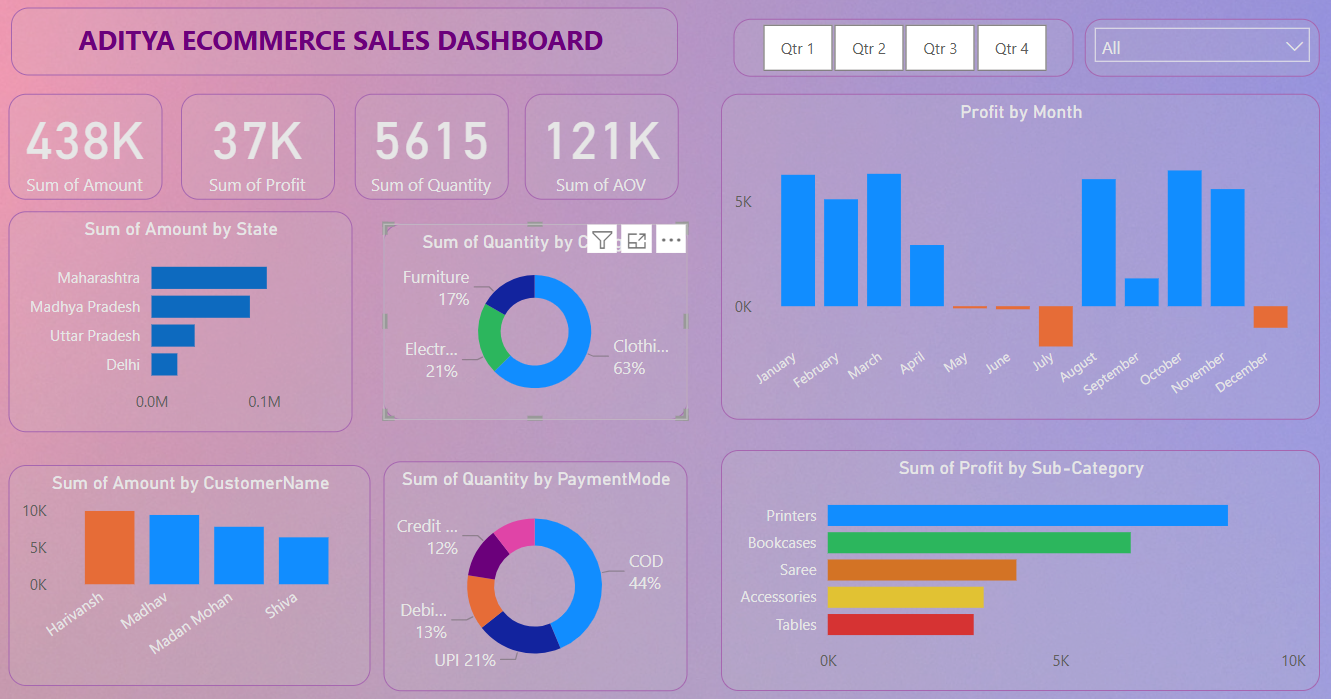

The page's visual inventory and layout, read from the dashboard file:
{"tool":"powerbi","page":{"name":"Page 1","canvas":[1280,720],"ordinal":0},"visuals":[{"type":"textbox","box":[12,6,534,55],"z":0},{"type":"columnChart","title":"Profit by Month","fields":{"Category":["Orders.Order Date.Variation.Date Hierarchy.Month"],"Y":["Details.Profit"]},"box":[580,75,479,261],"z":1000},{"type":"clusteredBarChart","fields":{"Y":["Details.Profit"],"Category":["Details.Sub-Category"]},"box":[580,360,479,193],"z":2000},{"type":"donutChart","fields":{"Category":["Details.Category"],"Y":["Details.Quantity"]},"box":[310,179,243,157],"z":3000},{"type":"donutChart","fields":{"Category":["Details.PaymentMode"],"Y":["Details.Quantity"]},"box":[310,369,243,184],"z":4000},{"type":"card","fields":{"Values":["Details.Amount"]},"box":[10,75,123,85],"z":5000},{"type":"card","fields":{"Values":["Details.Quantity"]},"box":[287,75,123,85],"z":6000},{"type":"card","fields":{"Values":["Details.Profit"]},"box":[148,75,123,85],"z":7000},{"type":"card","fields":{"Values":["Details.AOV"]},"box":[423,75,123,85],"z":8000},{"type":"clusteredBarChart","fields":{"Y":["Details.Amount"],"Category":["Orders.State"]},"box":[10,169,275,177],"z":9000},{"type":"columnChart","fields":{"Category":["Orders.CustomerName"],"Y":["Details.Amount"]},"box":[10,372,290,177],"z":10000},{"type":"slicer","fields":{"Values":["Orders.Order Date.Variation.Date Hierarchy.Quarter"]},"box":[590,15,272,47],"z":11000},{"type":"slicer","fields":{"Values":["Orders.State"]},"box":[871,15,188,47],"z":12000}]}

Visuals, with their boxes on the page's 1280x720 design canvas (x1, y1, x2, y2). These are canvas units, not pixel positions in the 1331x699 screenshot, which may show the page scaled, cropped or inside an application window:
textbox: BBox(12, 6, 546, 61)
"Profit by Month" columnChart: BBox(580, 75, 1059, 336)
clusteredBarChart - Details.Profit x Details.Sub-Category: BBox(580, 360, 1059, 553)
donutChart - Details.Category x Details.Quantity: BBox(310, 179, 553, 336)
donutChart - Details.PaymentMode x Details.Quantity: BBox(310, 369, 553, 553)
card - Details.Amount: BBox(10, 75, 133, 160)
card - Details.Quantity: BBox(287, 75, 410, 160)
card - Details.Profit: BBox(148, 75, 271, 160)
card - Details.AOV: BBox(423, 75, 546, 160)
clusteredBarChart - Details.Amount x Orders.State: BBox(10, 169, 285, 346)
columnChart - Orders.CustomerName x Details.Amount: BBox(10, 372, 300, 549)
slicer - Orders.Order Date.Variation.Date Hierarchy.Quarter: BBox(590, 15, 862, 62)
slicer - Orders.State: BBox(871, 15, 1059, 62)
